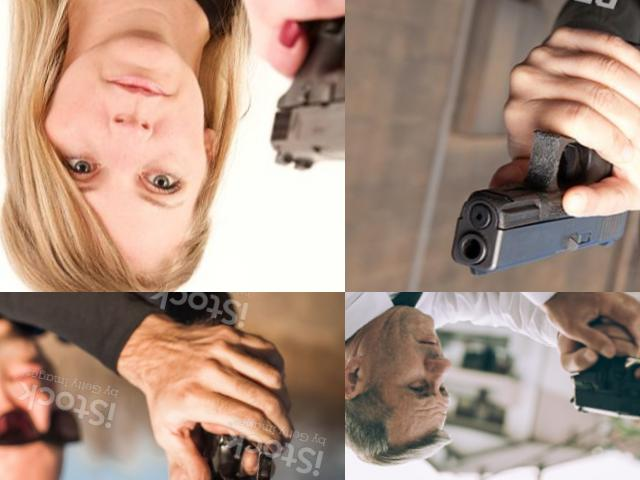handgun: (439, 4, 640, 292), (255, 0, 345, 203), (553, 299, 640, 444), (165, 409, 328, 480)
